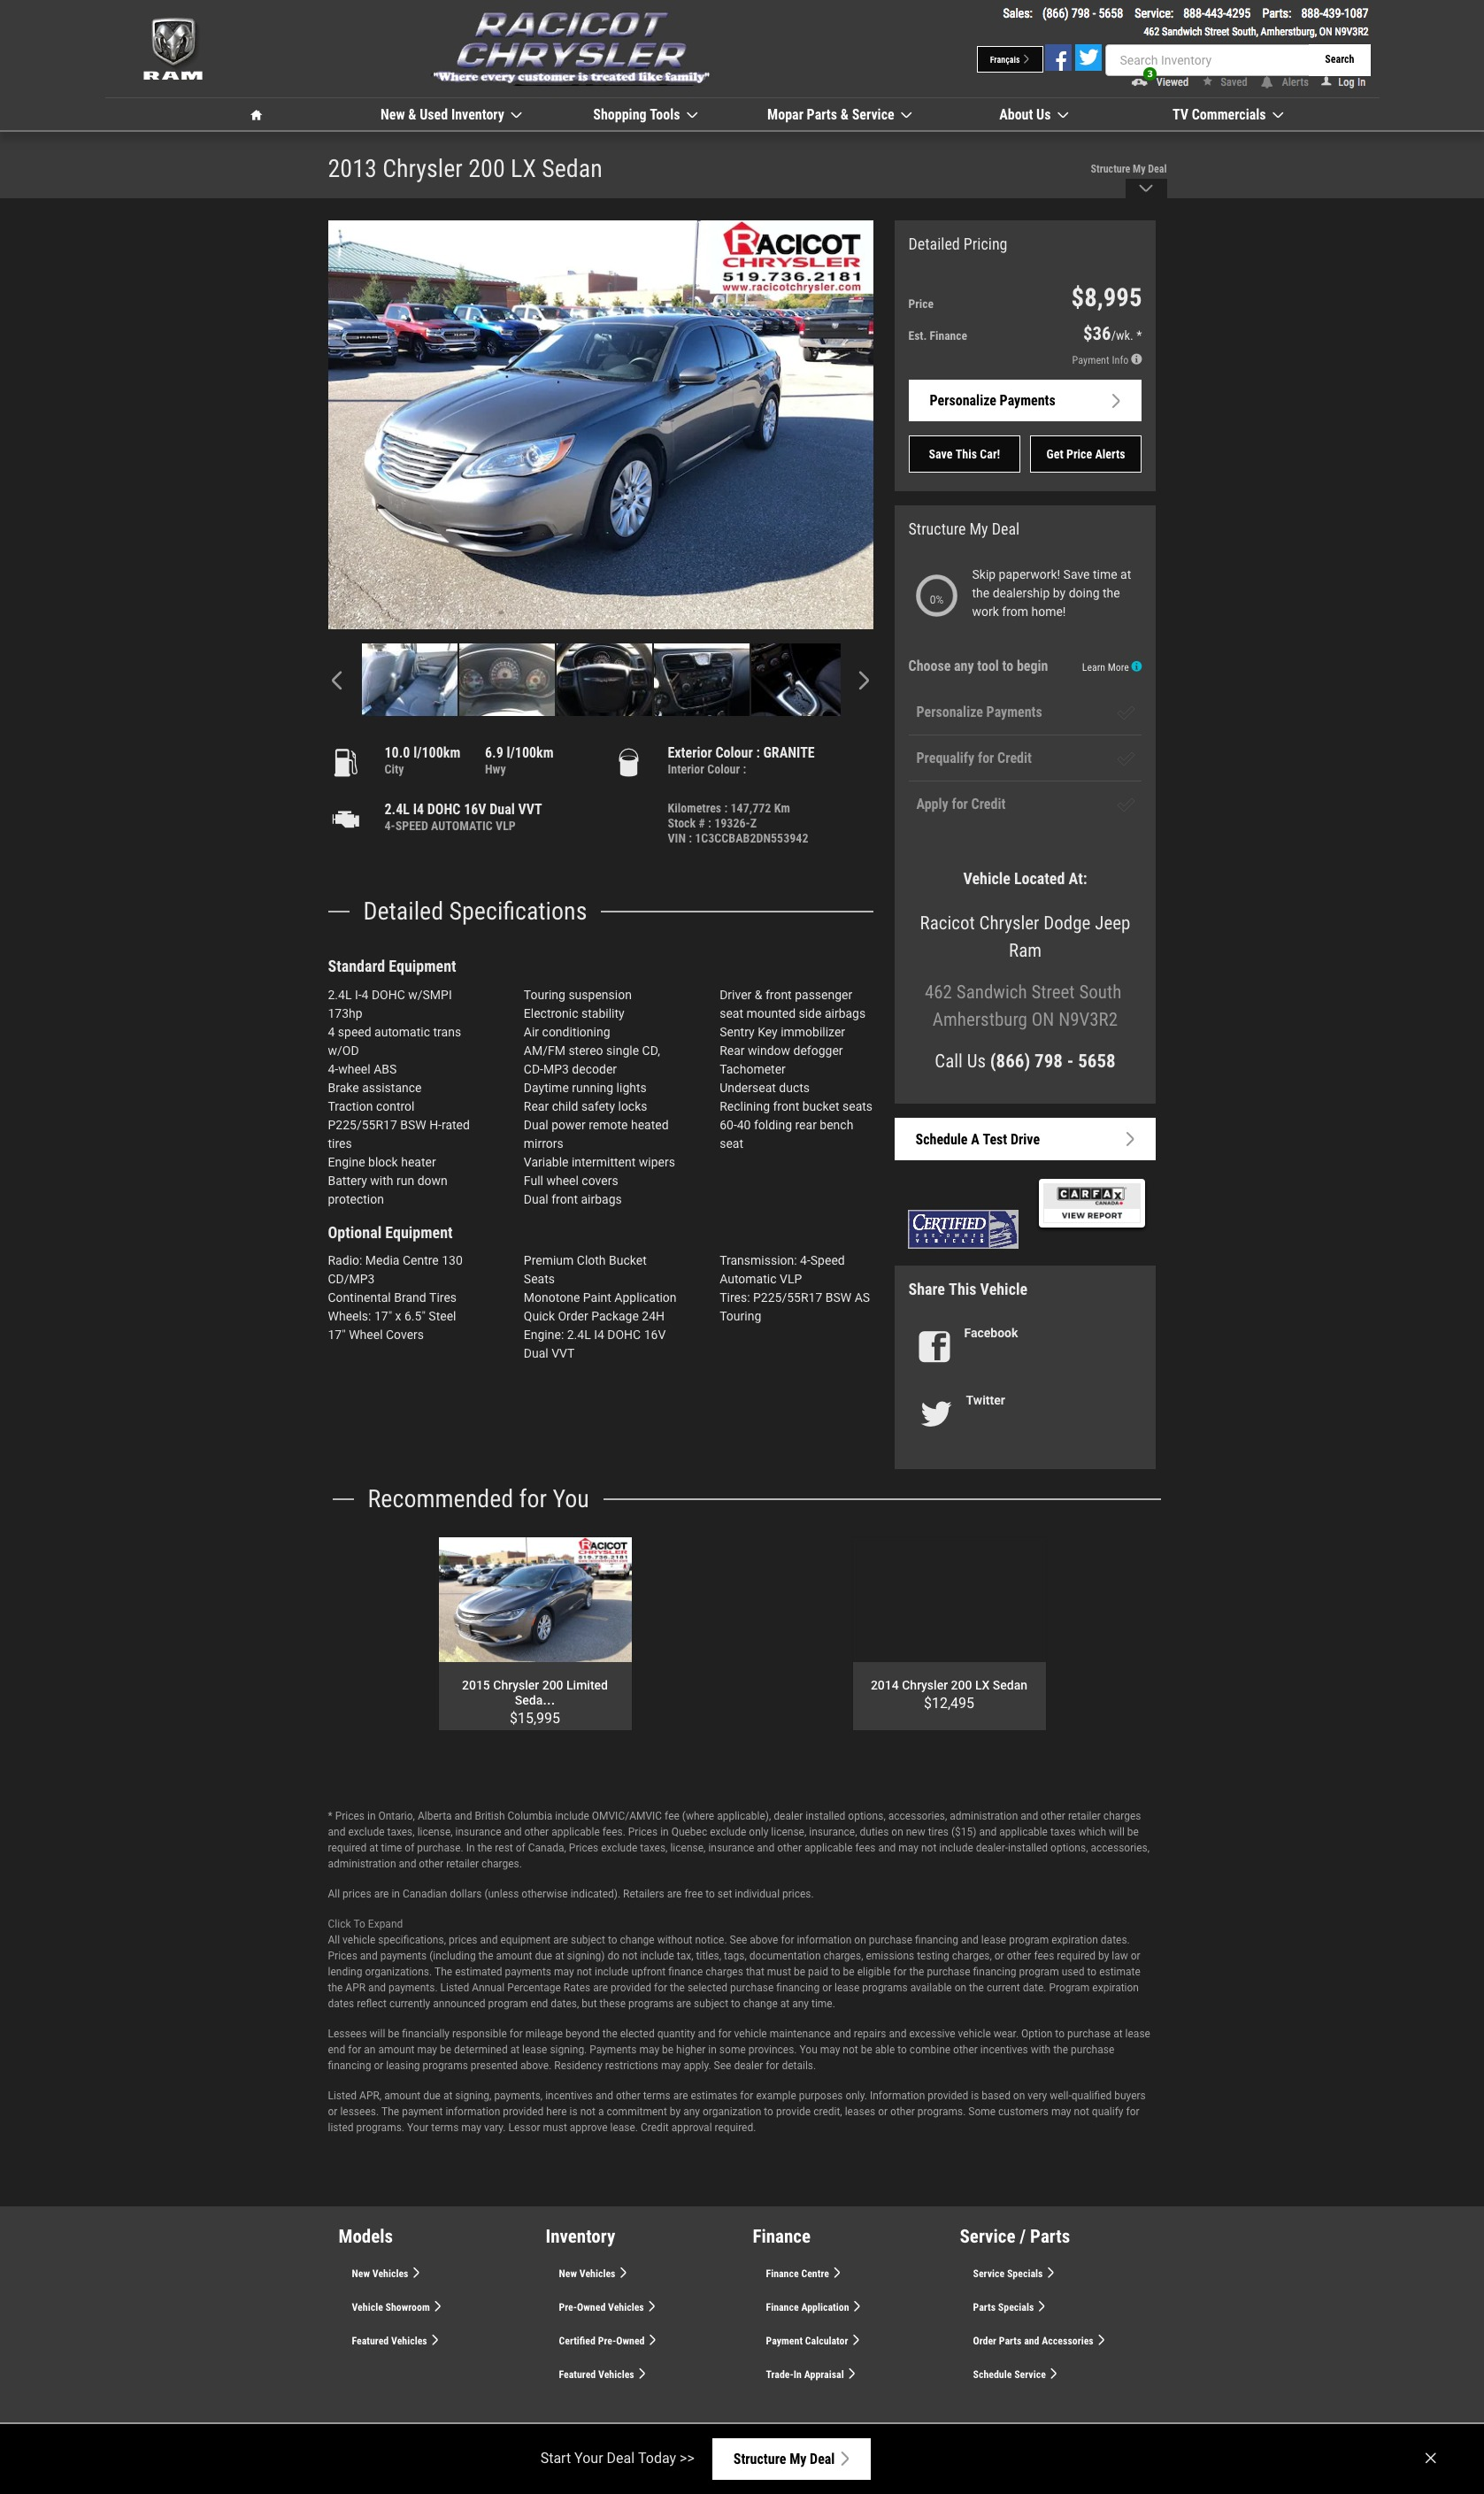car: (855, 666, 873, 694)
